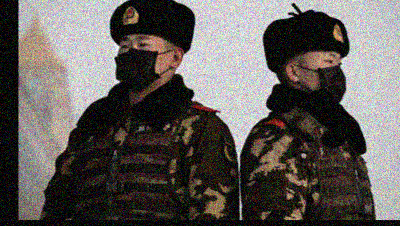with_mask: (114, 34, 171, 88), (297, 52, 345, 103)
